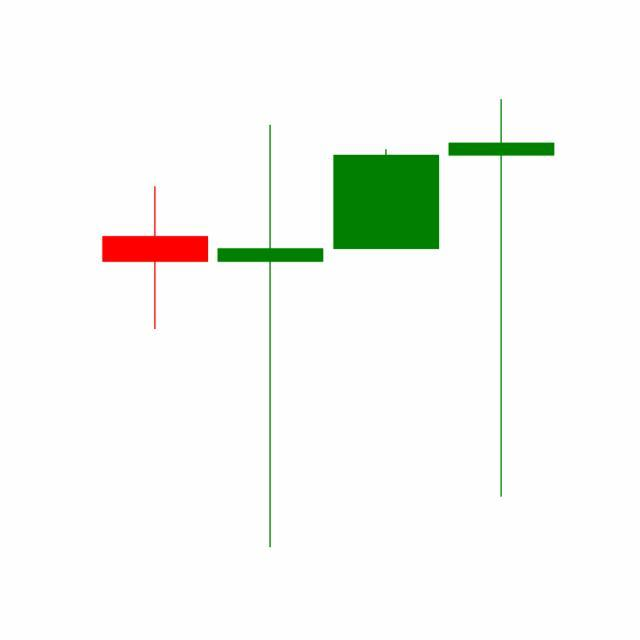Marubozu: (329, 148, 445, 251)
